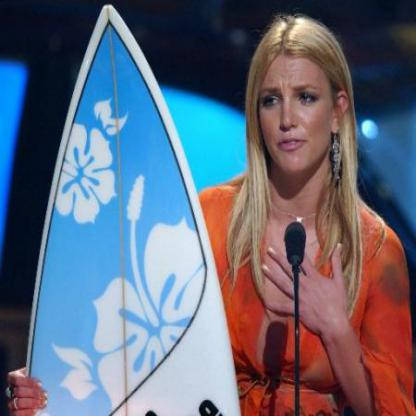face: (257, 21, 335, 177)
